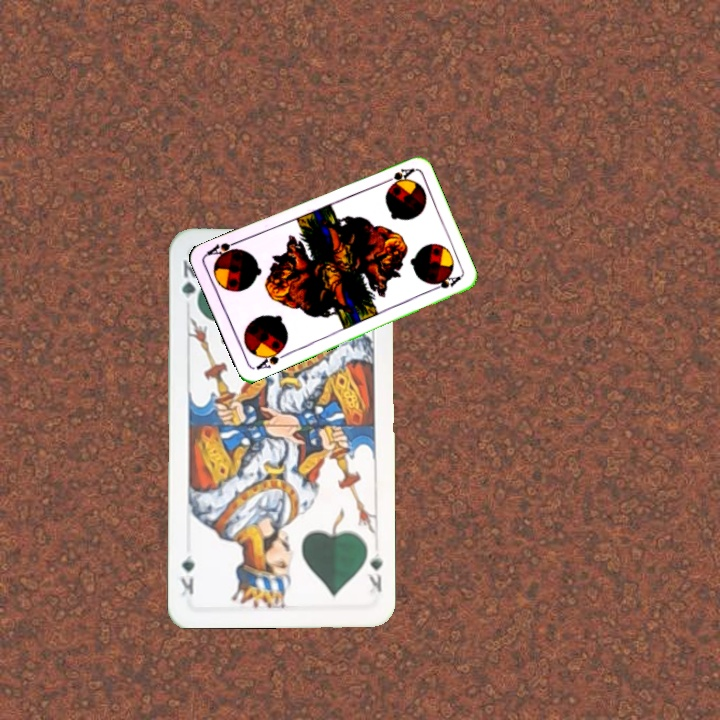GK: (177, 255, 200, 312), (363, 549, 385, 594)
SA: (252, 343, 290, 372), (377, 164, 416, 187)
